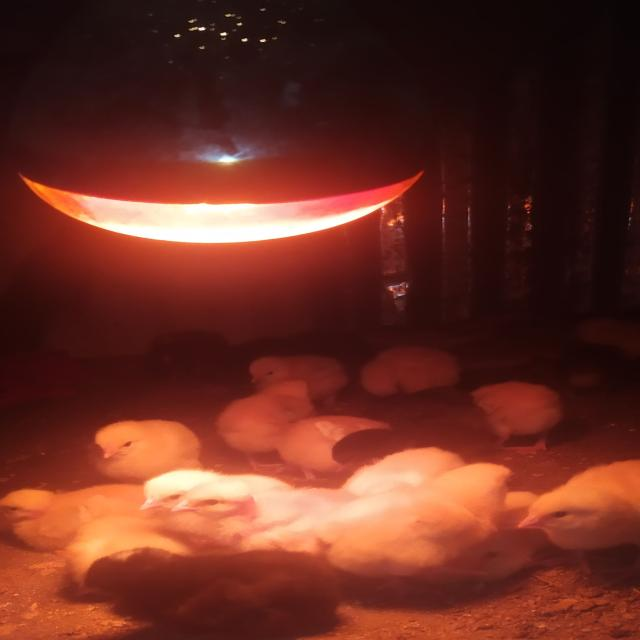chick: (324, 460, 512, 588), (83, 549, 359, 634), (516, 460, 640, 572), (141, 469, 306, 552), (281, 416, 416, 484), (217, 385, 316, 474), (0, 485, 131, 550), (171, 480, 299, 545), (464, 382, 568, 451), (90, 421, 199, 482), (358, 343, 461, 406), (246, 356, 340, 399), (332, 428, 417, 468)
objects: (0, 0, 428, 243)
